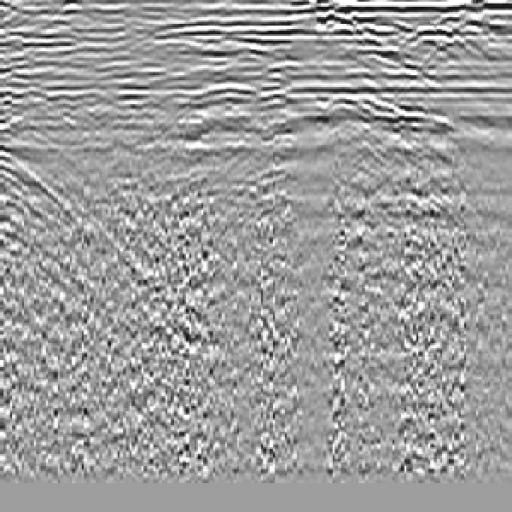metalic: (126, 48, 319, 275)
